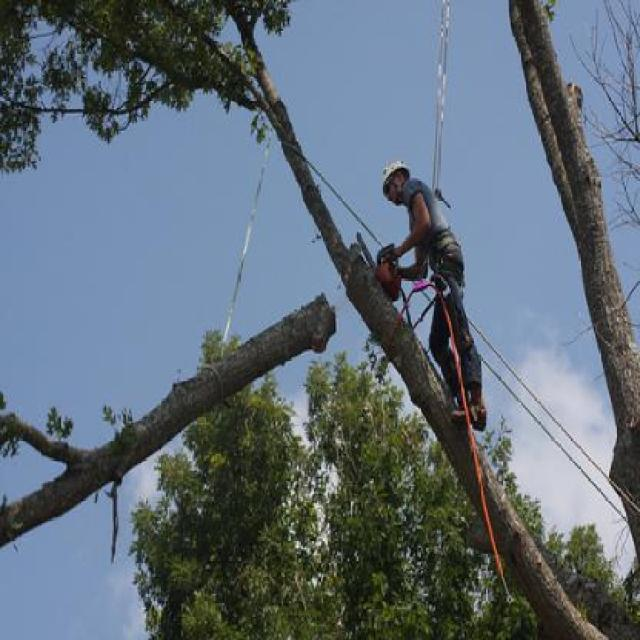Chainsaw: (354, 231, 400, 300)
